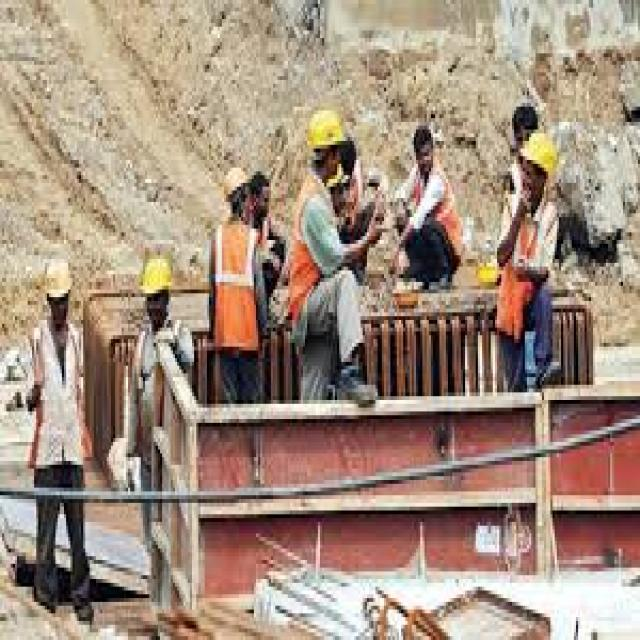Reflective-Jacket: (23, 320, 94, 480), (284, 172, 350, 328), (490, 202, 554, 343), (202, 217, 264, 362), (401, 160, 467, 263)
Safety-Helmet: (299, 92, 356, 172), (512, 126, 567, 194), (132, 240, 179, 312), (36, 240, 79, 312), (213, 156, 253, 225)
